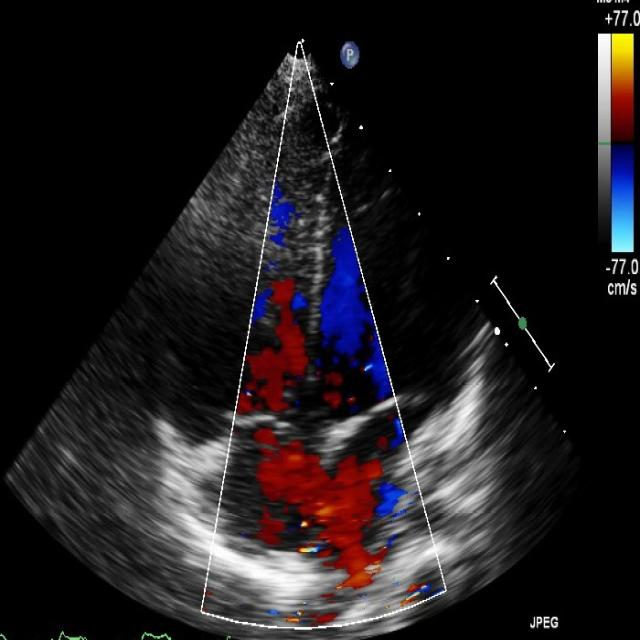ASDType2: (258, 415, 402, 588)
